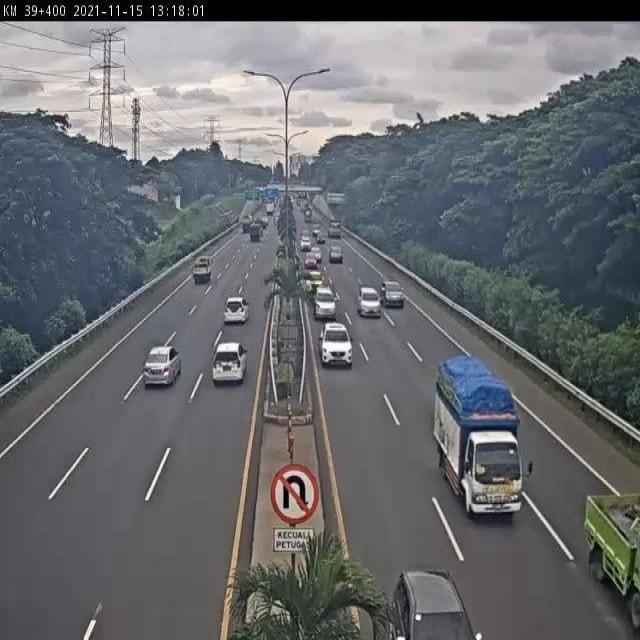Car: (385, 552, 487, 640), (138, 330, 188, 404), (206, 335, 252, 394), (315, 323, 352, 368), (219, 290, 255, 334), (313, 286, 343, 320), (358, 286, 382, 326), (382, 276, 406, 310), (304, 270, 326, 295), (297, 232, 313, 254), (326, 247, 345, 264), (304, 252, 318, 269)
Truck: (424, 336, 526, 523), (582, 483, 639, 640), (184, 254, 223, 292), (246, 218, 264, 245), (326, 215, 344, 241)
